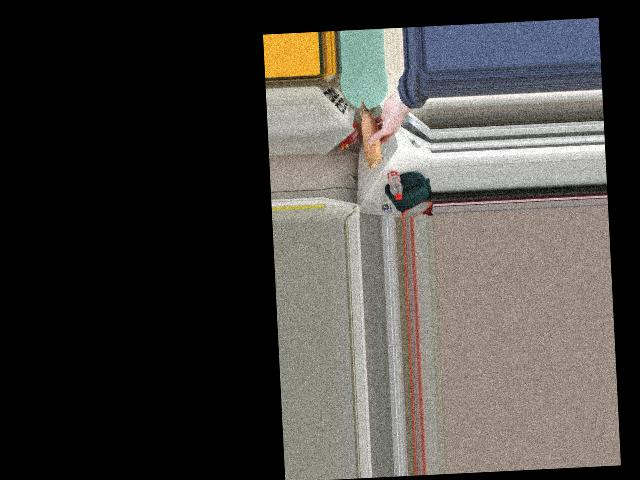sweet_potato: (362, 100, 380, 172)
